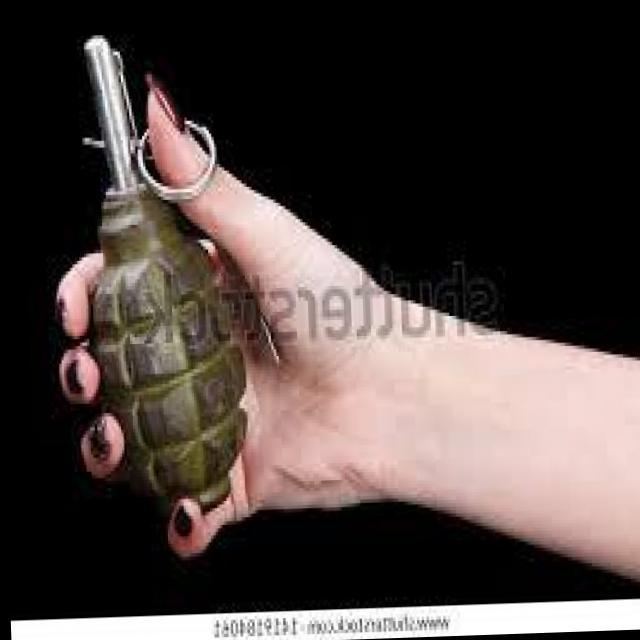grenade: (66, 31, 269, 514)
